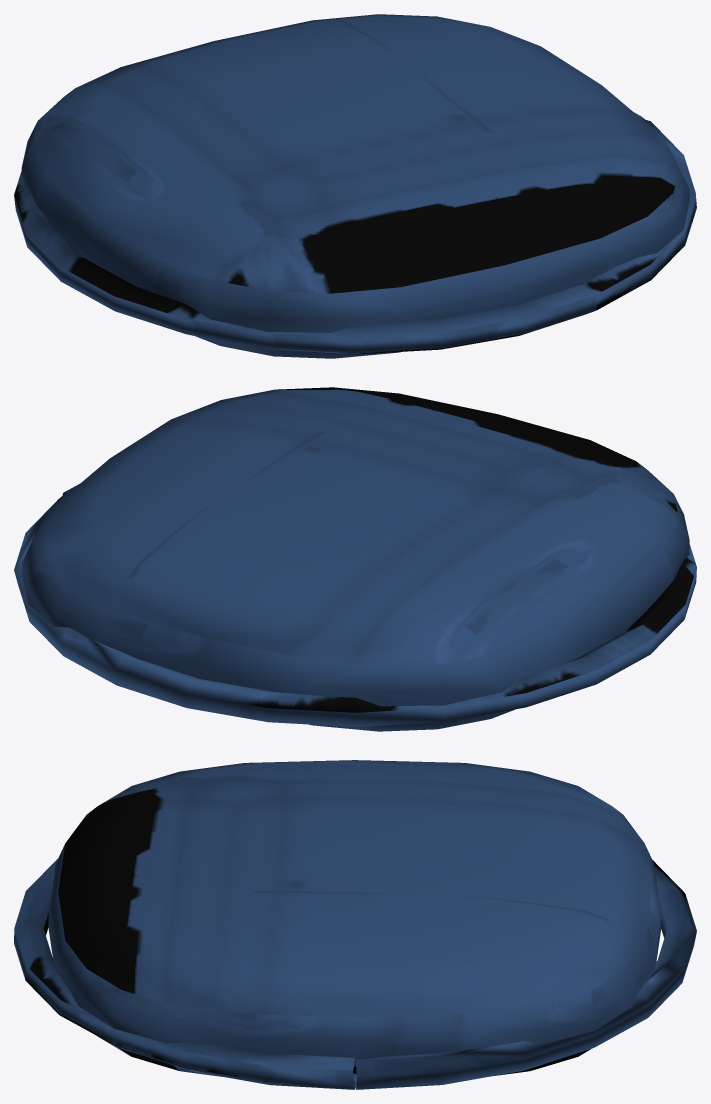
Rendered from Tano_RolloDer.fbx.
3 views of the same model, one above another, from view 1: azimuth 30°, elevation 25°; view 2: azimuth 150°, elevation 25°; view 3: azimuth 270°, elevation 25° (orthographic).
Parts seen in each view (by area): view 1: Tano_RolloDer; view 2: Tano_RolloDer; view 3: Tano_RolloDer.
Part boxes in pixels (bbox=[...]): Tano_RolloDer: bbox=[14, 14, 696, 358]; Tano_RolloDer: bbox=[14, 387, 696, 731]; Tano_RolloDer: bbox=[14, 760, 696, 1089].
Size of the model in its own units: 1.5 by 0.3571 by 1.5.
